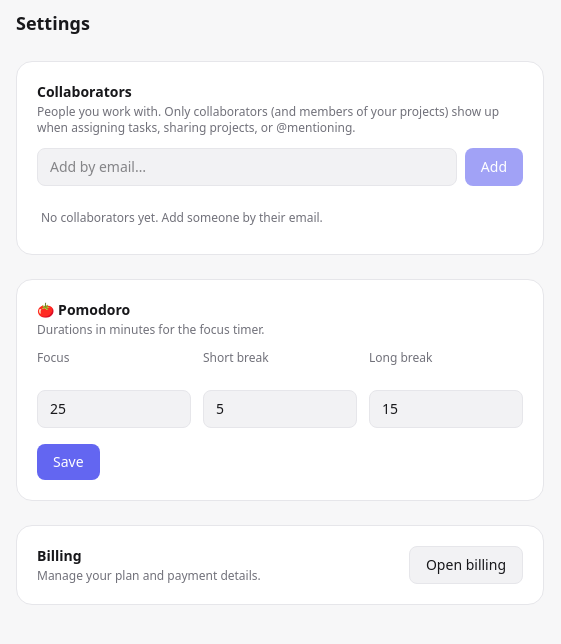
it: SettingsPage › shows an error for an unknown email
The width and height of the screenshot is (561, 644).
Type "ghost@x.io" into the field with placeholder "Add by email…". click: (247, 167)
box: left=37, top=148, right=457, bottom=186
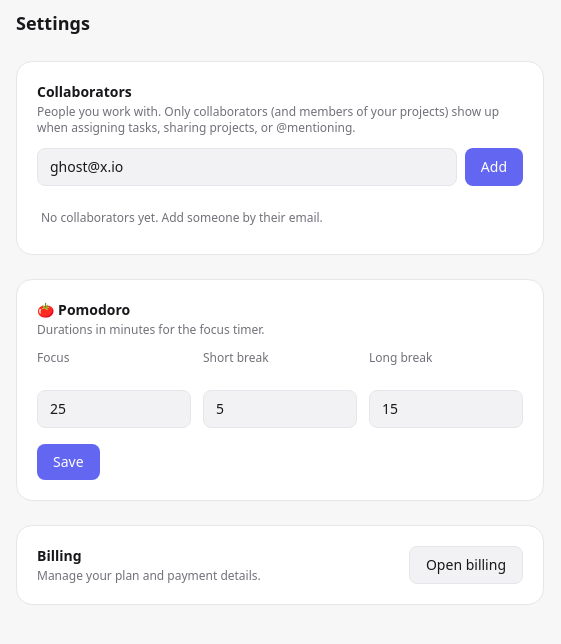
Click the button "Add". click: (494, 167)
box: left=465, top=148, right=523, bottom=186
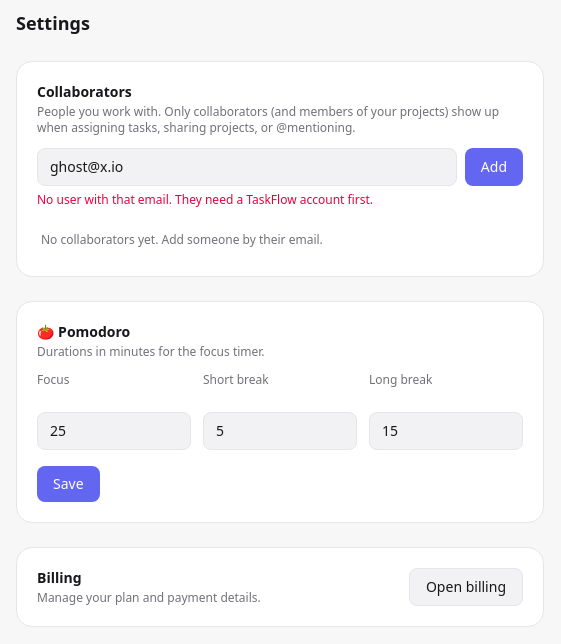
Result: the text "No user with that email. They need a TaskFlow account first." is shown at left=37, top=191, right=373, bottom=208
